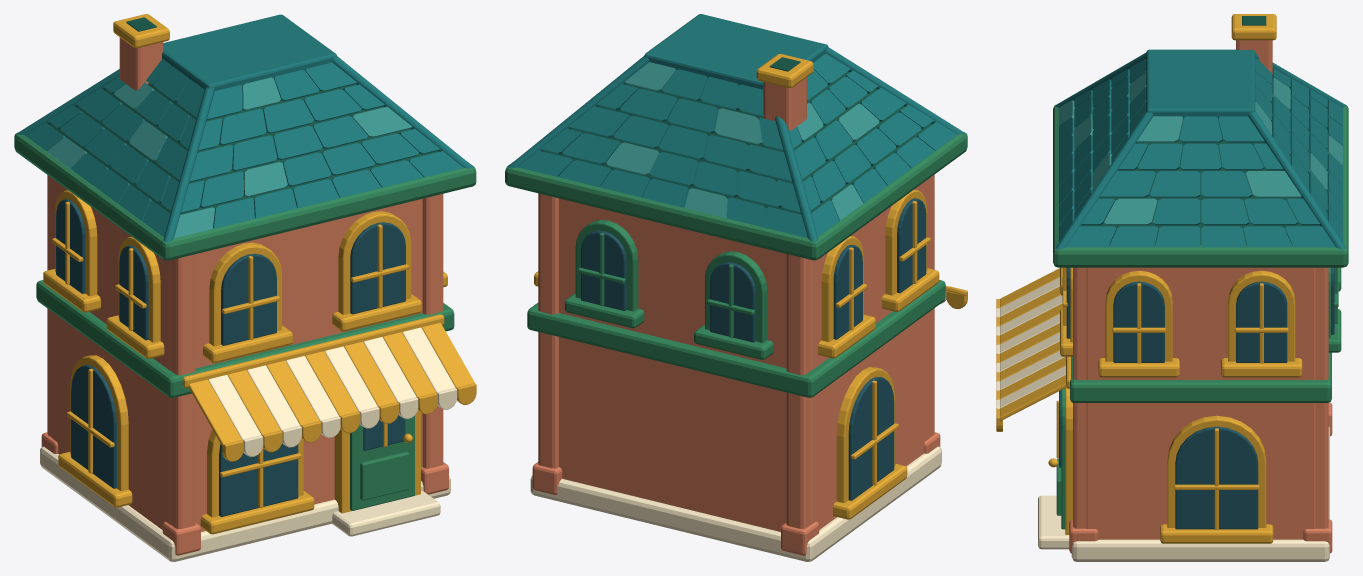
Rendered from shop-coral.glb.
3 renders of one model, left to right at view 1: azimuth 30°, elevation 25°; view 2: azimuth 150°, elevation 25°; view 3: azimuth 270°, elevation 25°, orthographic. The views are drawn at different scales.
Visible parts, largest first — view 1: Boulevard_teal.001, Boulevard_coral, Boulevard_gold.001, Boulevard_glass.001, Boulevard_green.001, Boulevard_cream.001, Boulevard_teal_light.001, Boulevard_dark_green.001; view 2: Boulevard_coral, Boulevard_teal.001, Boulevard_green.001, Boulevard_glass.001, Boulevard_gold.001, Boulevard_cream.001, Boulevard_teal_light.001, Boulevard_dark_green.001; view 3: Boulevard_teal.001, Boulevard_coral, Boulevard_gold.001, Boulevard_green.001, Boulevard_glass.001, Boulevard_cream.001, Boulevard_teal_light.001, Boulevard_dark_green.001.
Boxes of the visible parts, left/top/right/bottom form: Boulevard_teal.001: left=17, top=14, right=473, bottom=242; Boulevard_coral: left=41, top=37, right=448, bottom=555; Boulevard_gold.001: left=43, top=14, right=476, bottom=534; Boulevard_glass.001: left=56, top=199, right=405, bottom=516; Boulevard_green.001: left=14, top=132, right=476, bottom=510; Boulevard_cream.001: left=40, top=327, right=457, bottom=561; Boulevard_teal_light.001: left=47, top=77, right=412, bottom=238; Boulevard_dark_green.001: left=49, top=17, right=438, bottom=214; Boulevard_coral: left=532, top=77, right=940, bottom=555; Boulevard_teal.001: left=508, top=14, right=964, bottom=241; Boulevard_green.001: left=505, top=132, right=967, bottom=397; Boulevard_glass.001: left=581, top=198, right=926, bottom=500; Boulevard_gold.001: left=534, top=54, right=967, bottom=519; Boulevard_cream.001: left=530, top=285, right=947, bottom=561; Boulevard_teal_light.001: left=606, top=62, right=879, bottom=220; Boulevard_dark_green.001: left=543, top=57, right=932, bottom=214; Boulevard_teal.001: left=1055, top=49, right=1346, bottom=249; Boulevard_coral: left=1069, top=40, right=1332, bottom=553; Boulevard_gold.001: left=996, top=14, right=1302, bottom=543; Boulevard_green.001: left=1053, top=105, right=1348, bottom=529; Boulevard_glass.001: left=1059, top=267, right=1334, bottom=529; Boulevard_cream.001: left=996, top=277, right=1329, bottom=561; Boulevard_teal_light.001: left=1058, top=72, right=1342, bottom=225; Boulevard_dark_green.001: left=1075, top=16, right=1319, bottom=244.
Bounding box in the file's own units: 3.74 × 5.2 × 3.77.
